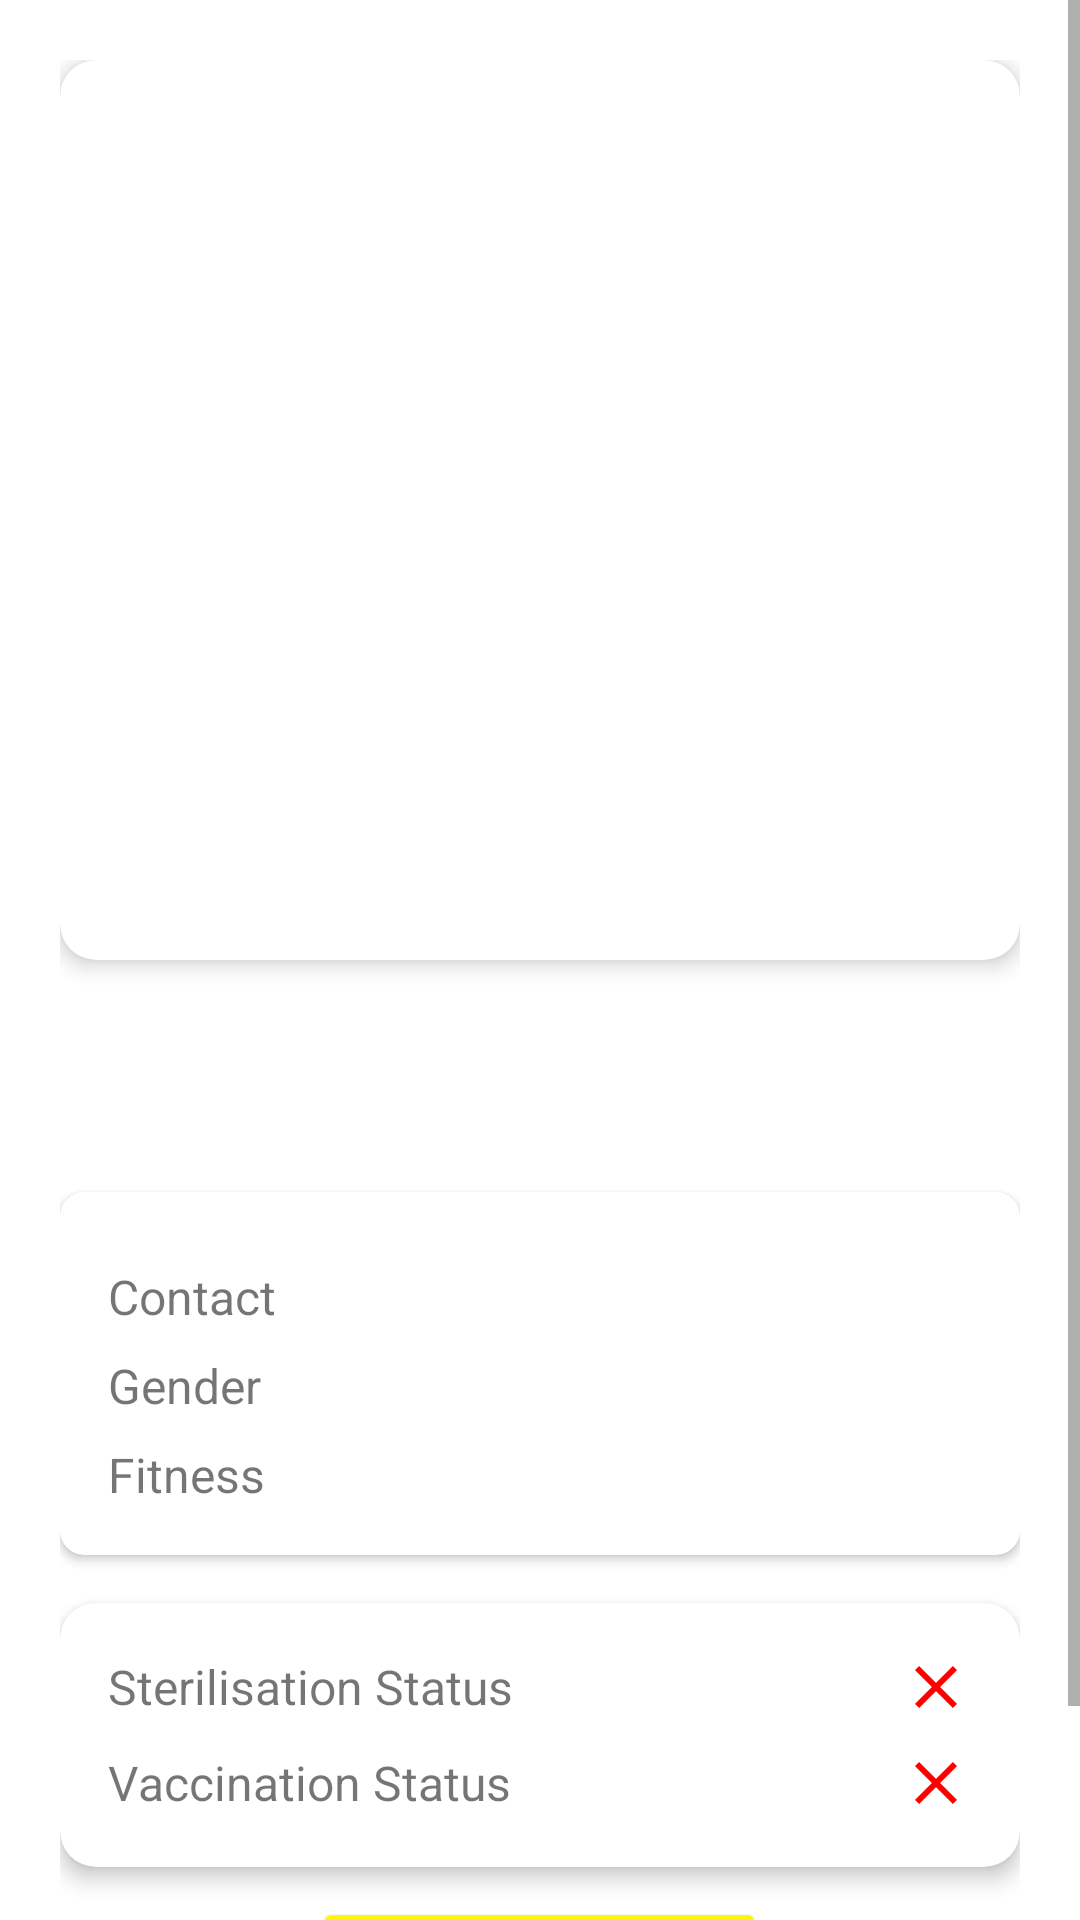

Point at icon controls on the screen. Image size 1080 × 1920, points as (x=x, y=y).
sterilisation status: (x=936, y=1687)
vaccination status: (x=936, y=1783)
